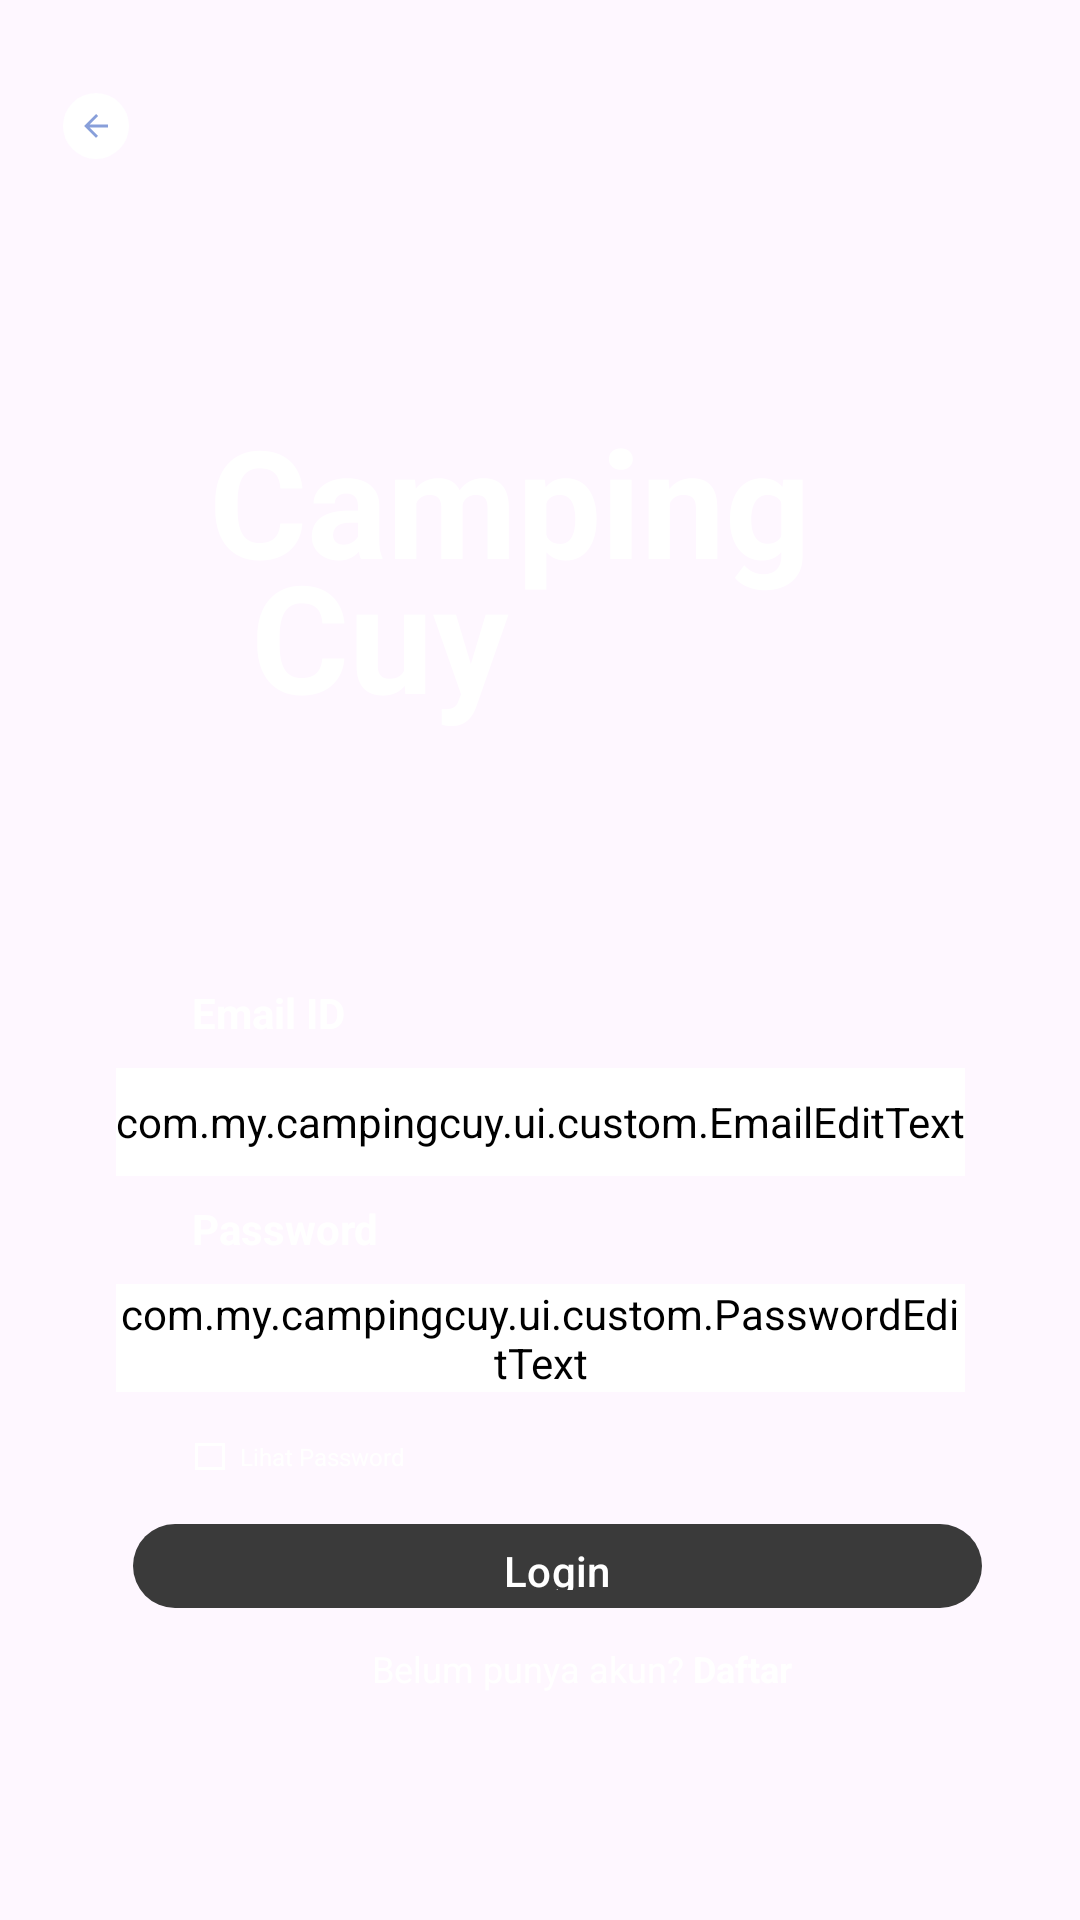

Icons on this 1080×1920 Android screen, each with the point to tap as (x,y):
arrow back: (96,126)
